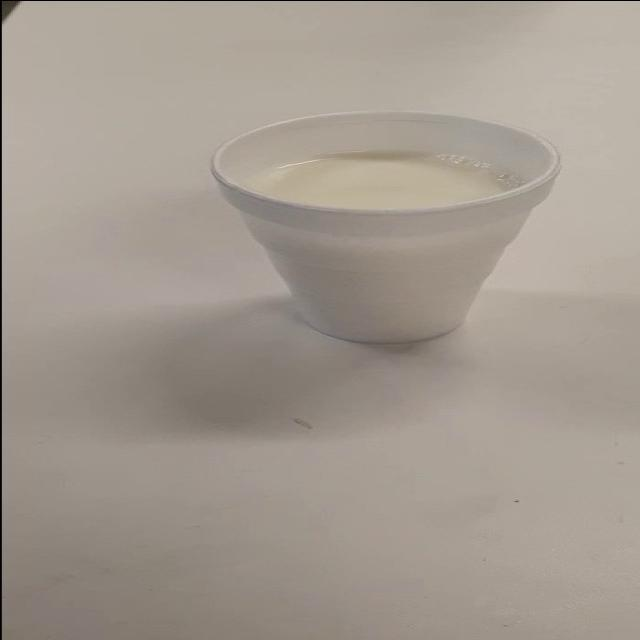Milk: (190, 92, 637, 368)
